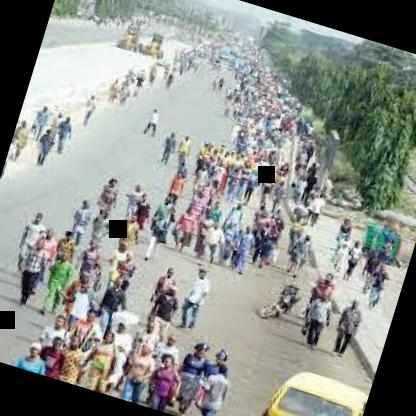car: (269, 348, 374, 416)
